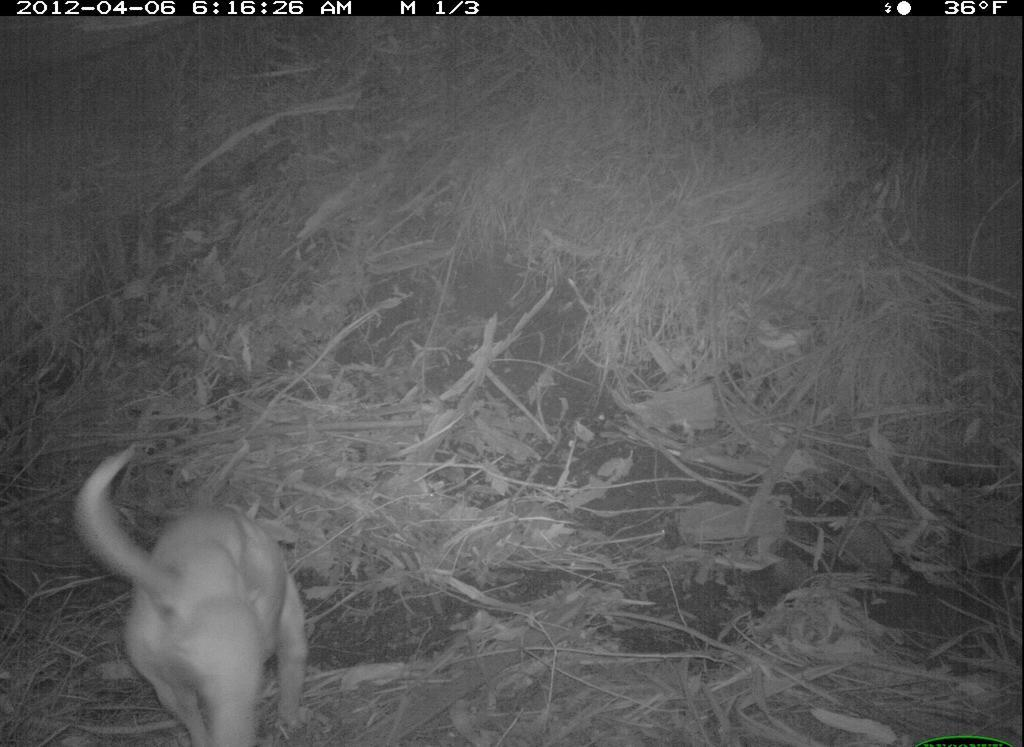dog: (66, 438, 329, 747)
